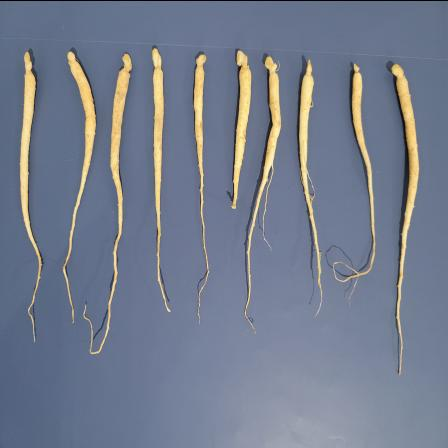Ginseng: (83, 50, 136, 354), (330, 60, 376, 308), (390, 61, 420, 374), (62, 51, 96, 318), (253, 52, 282, 336), (18, 48, 44, 346), (296, 56, 324, 314), (150, 45, 174, 317), (192, 50, 214, 326), (230, 49, 253, 212)
head: (22, 50, 36, 79), (390, 63, 408, 83), (118, 52, 134, 74), (236, 50, 250, 75), (263, 55, 279, 76), (152, 46, 164, 74), (302, 58, 314, 80), (195, 53, 207, 71), (67, 50, 78, 68), (352, 61, 362, 77)
